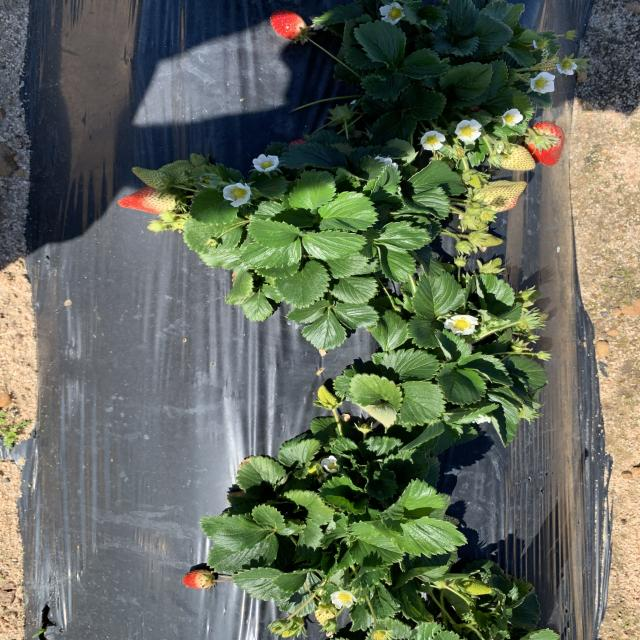unripe: (116, 182, 192, 217), (520, 123, 568, 167), (268, 8, 312, 42), (286, 138, 314, 156)
